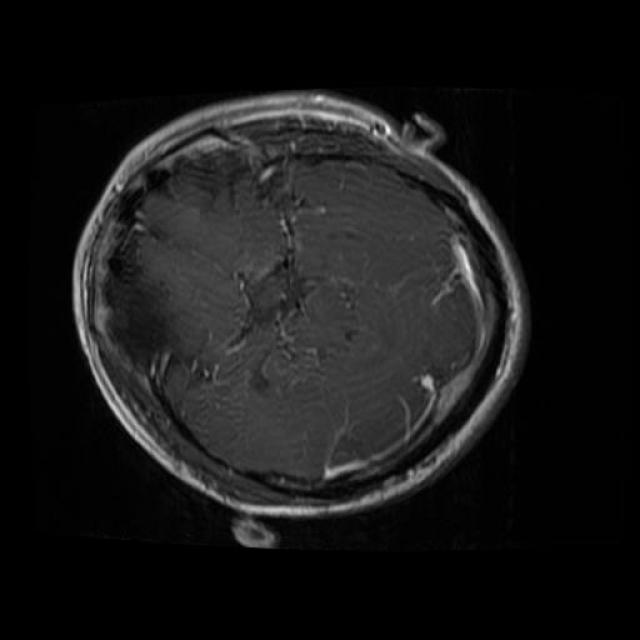Glioma: (107, 221, 189, 375)
